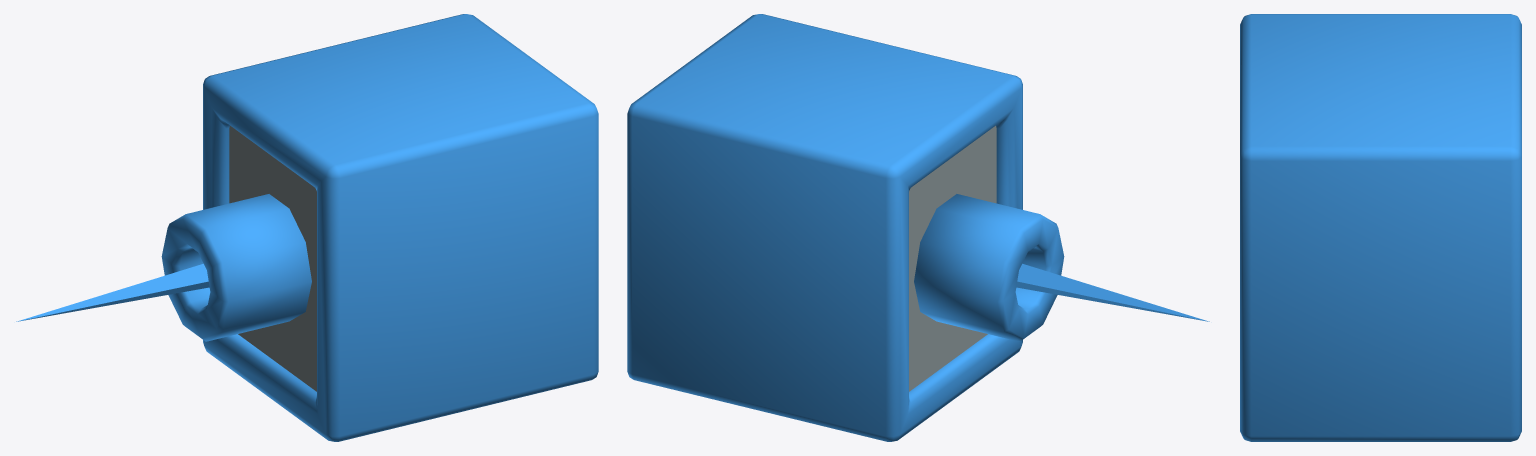
File: shooting_blue.fbx
The picture shows the model from 3 angles, left to right: view 1: azimuth 30°, elevation 25°; view 2: azimuth 150°, elevation 25°; view 3: azimuth 270°, elevation 25°; orthographic projection. The views are drawn at different scales.
Parts seen in each view (by area): view 1: shooting_blue_main, shooting_blue_serve; view 2: shooting_blue_main, shooting_blue_serve; view 3: shooting_blue_main.
Part boxes in pixels (left/top/right/bottom): shooting_blue_main: left=161, top=14, right=598, bottom=441; shooting_blue_serve: left=16, top=263, right=209, bottom=321; shooting_blue_main: left=627, top=14, right=1064, bottom=441; shooting_blue_serve: left=1016, top=263, right=1209, bottom=321; shooting_blue_main: left=1240, top=14, right=1521, bottom=441.
Bounding box in the file's own units: 0.4573 × 0.2318 × 0.2004.
